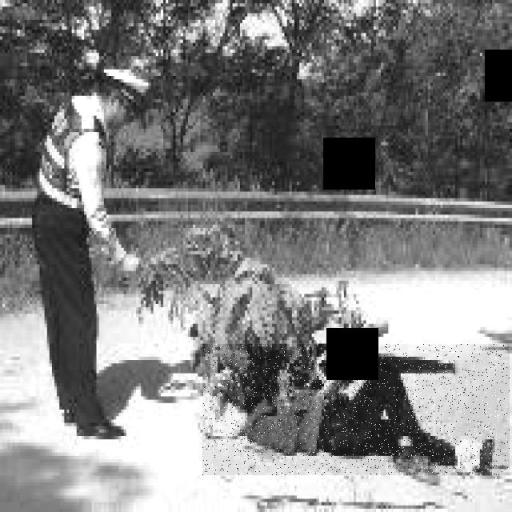Fall: (203, 344, 510, 475)
